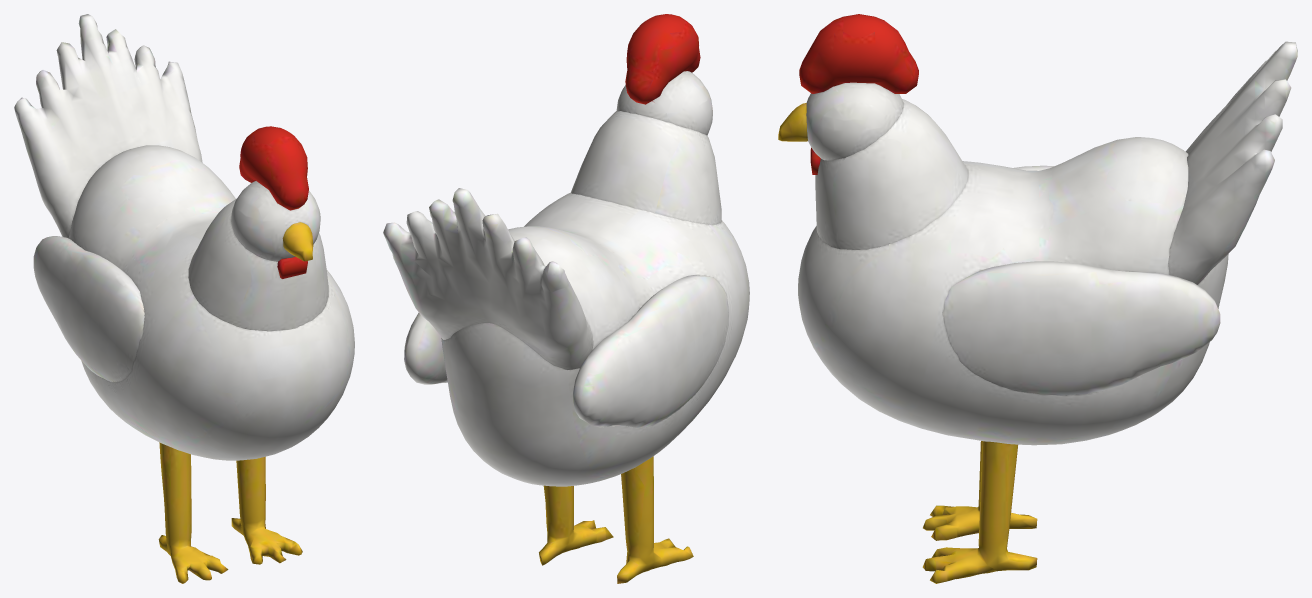
File: animal_leghorn.glb
3 renders of one model, left to right at view 1: azimuth 30°, elevation 25°; view 2: azimuth 150°, elevation 25°; view 3: azimuth 270°, elevation 25°, orthographic. The views are drawn at different scales.
Visible parts, largest first — view 1: animal_leghorn, head, leg0, leg1; view 2: animal_leghorn, head, leg0, leg1; view 3: animal_leghorn, head, leg1, leg0.
Part boxes in pixels (x1,y1,x2,y2): animal_leghorn: [14, 14, 354, 460]; head: [231, 126, 320, 278]; leg0: [158, 442, 228, 583]; leg1: [231, 456, 302, 564]; animal_leghorn: [383, 111, 749, 486]; head: [616, 14, 712, 135]; leg0: [617, 456, 693, 583]; leg1: [539, 485, 613, 565]; animal_leghorn: [798, 41, 1297, 445]; head: [778, 14, 918, 174]; leg1: [922, 441, 1037, 583]; leg0: [923, 441, 1037, 540].
Bounding box in the file's own units: 0.1382 × 0.2866 × 0.2527.
1 material, 1 textured.
